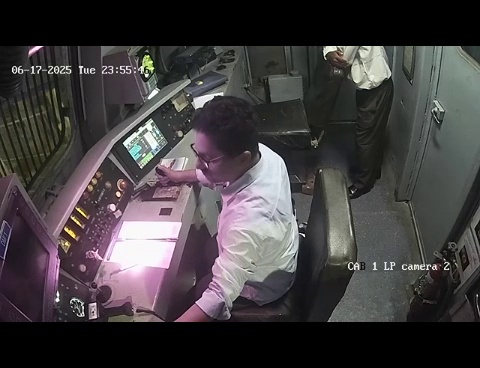horn_inactive: (80, 273, 126, 312)
